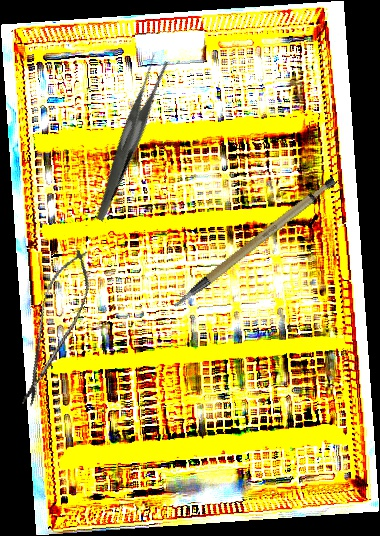Dressing Forceps: (50, 52, 207, 222)
Micro Scissor: (9, 242, 101, 413)
Scalpel Handle: (156, 174, 351, 309)
